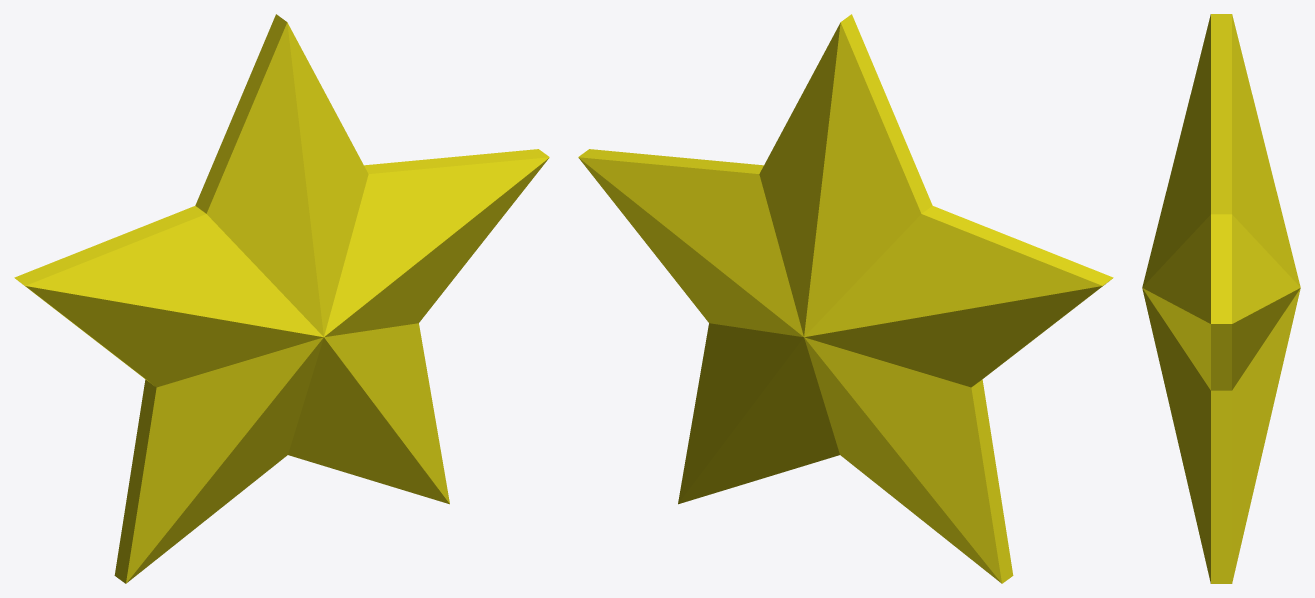
Rendered from Star_Coin.fbx.
3 views of the same model, side by side, from view 1: azimuth 30°, elevation 25°; view 2: azimuth 150°, elevation 25°; view 3: azimuth 270°, elevation 25° (orthographic). The views are drawn at different scales.
Parts seen in each view (by area): view 1: Star_Up; view 2: Star_Up; view 3: Star_Up.
Boxes of the visible parts, box(x1,y1,x2,y2) form: Star_Up: box(14, 14, 549, 583); Star_Up: box(578, 14, 1113, 583); Star_Up: box(1142, 14, 1300, 583).
Size of the model in its own units: 422 by 401 by 116.
